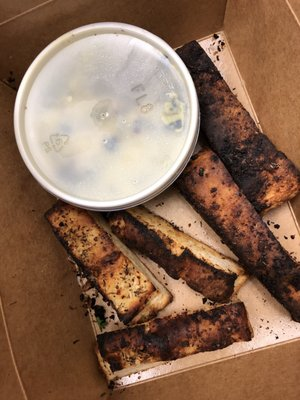sushi: (14, 22, 201, 212)
